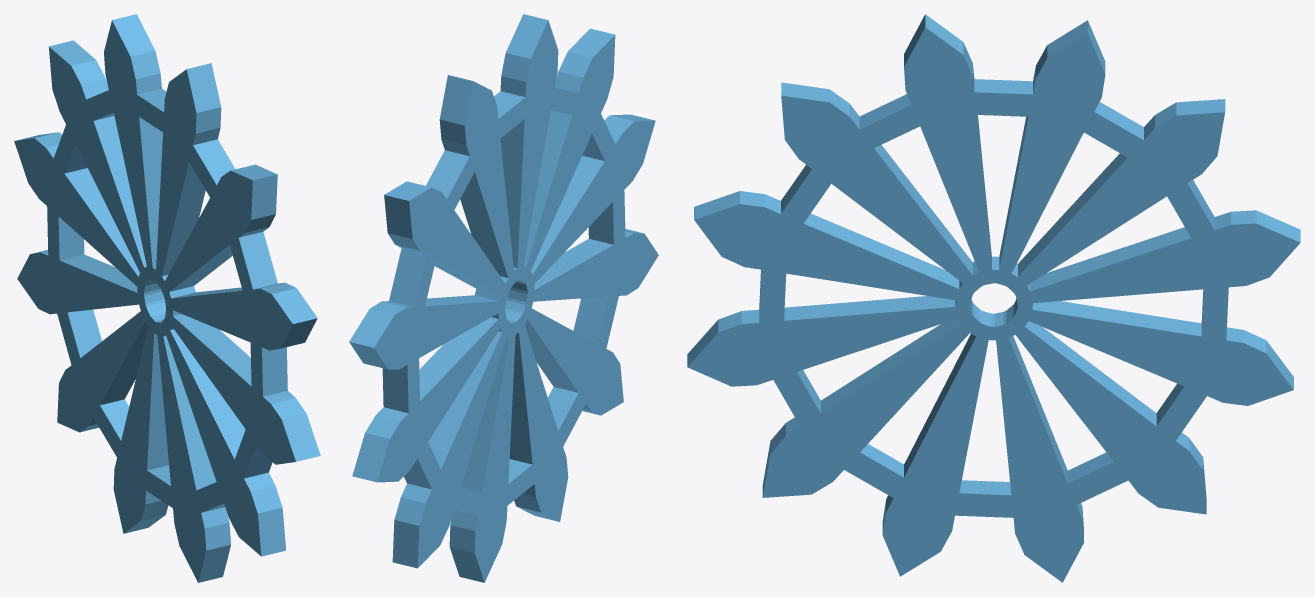
File: steampunk_exit_missing_gear 1.fbx
The picture shows the model from 3 angles, left to right: view 1: azimuth 30°, elevation 25°; view 2: azimuth 150°, elevation 25°; view 3: azimuth 270°, elevation 25°; orthographic projection. The views are drawn at different scales.
Parts seen in each view (by area): view 1: Gear_12.002; view 2: Gear_12.002; view 3: Gear_12.002.
Boxes of the visible parts, x1,y1,x2,y2 form: Gear_12.002: [14, 14, 320, 582]; Gear_12.002: [349, 14, 658, 582]; Gear_12.002: [687, 14, 1300, 582].
Bounding box in the file's own units: 1.52 × 29.95 × 29.95.
